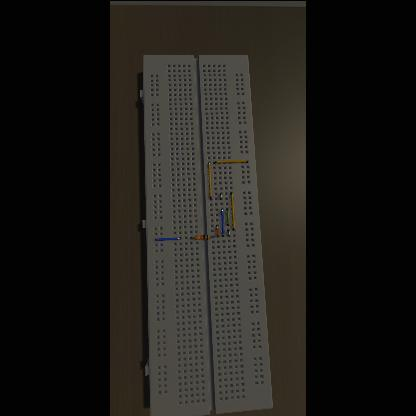breadboard: (140, 54, 274, 416)
resistor: (194, 233, 210, 238)
wire: (208, 161, 212, 199), (231, 192, 235, 228), (214, 159, 249, 163), (155, 236, 181, 240), (221, 208, 224, 236), (226, 208, 230, 224), (217, 224, 219, 236), (220, 193, 222, 199), (228, 229, 230, 235), (192, 236, 194, 238), (210, 235, 214, 236)
